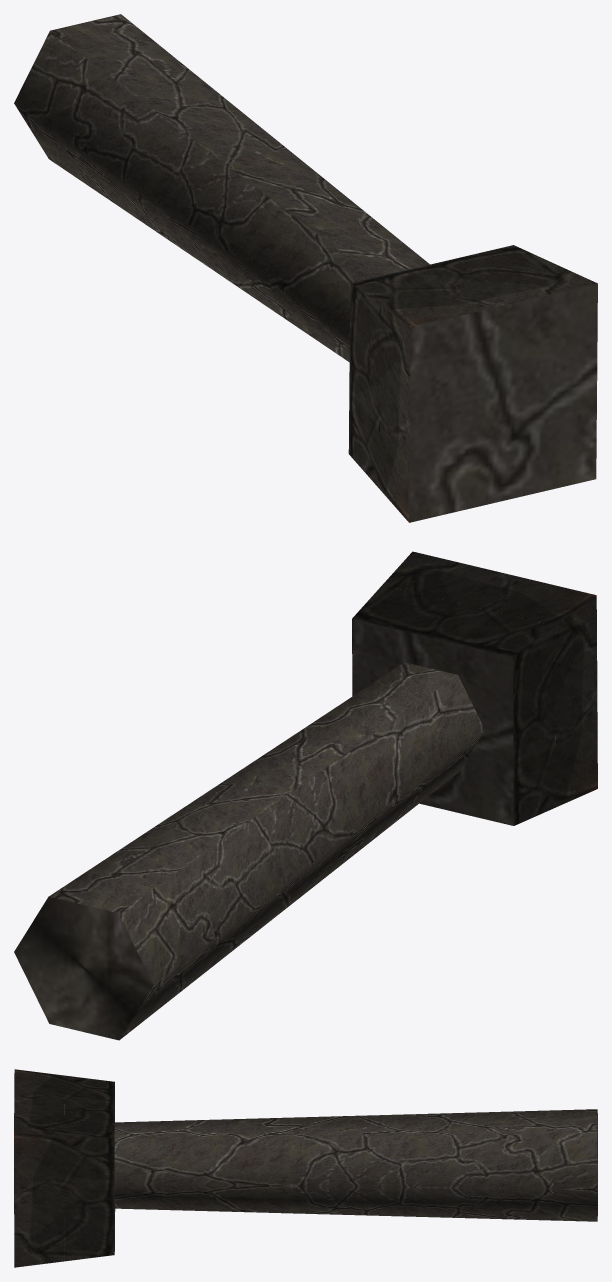
Rendered from column_09.obj.
The picture shows the model from 3 angles, top to bottom: view 1: azimuth 30°, elevation 25°; view 2: azimuth 150°, elevation 25°; view 3: azimuth 270°, elevation 25°; orthographic projection. The views are drawn at different scales.
Visible parts, largest first — view 1: (null); view 2: (null); view 3: (null).
Part boxes in pixels (<box>): (null): <box>14,14,597,522</box>; (null): <box>14,551,597,1040</box>; (null): <box>14,1069,597,1267</box>.
Size of the model in its own units: 0.6854 by 0.6854 by 2.67.
